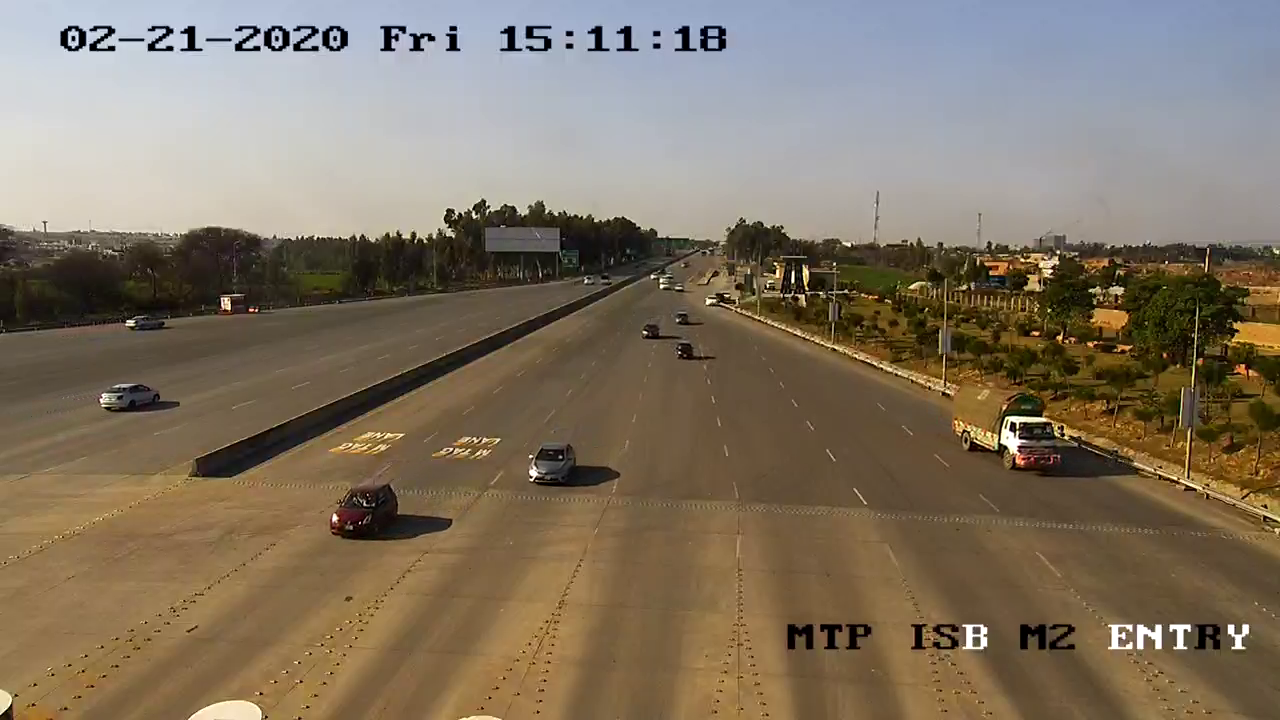f1: (322, 472, 404, 549), (523, 436, 584, 494)
f5: (943, 376, 1077, 478)
